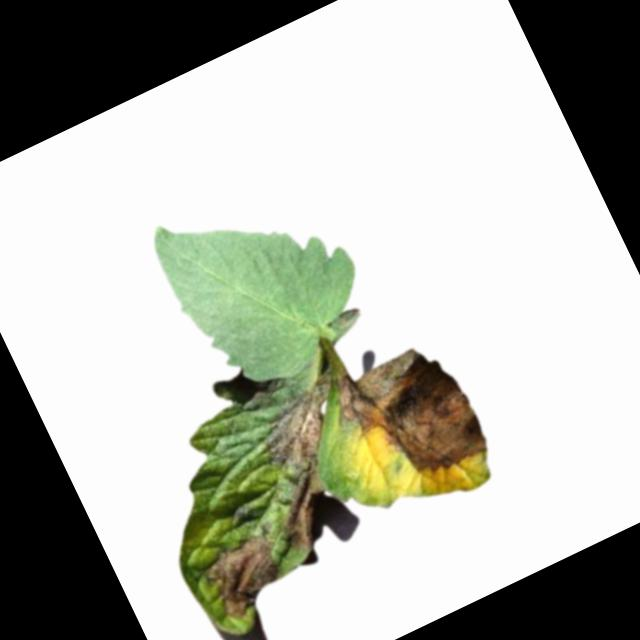Late_blight: (317, 324, 494, 506), (229, 372, 398, 558), (195, 526, 298, 626)
